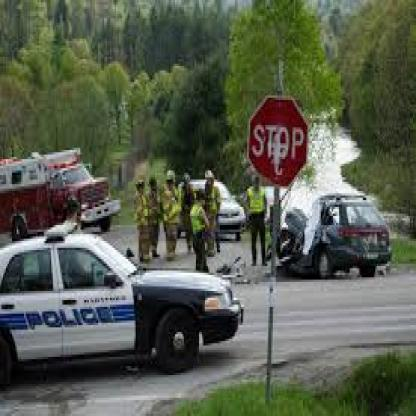accident: (286, 180, 408, 287)
